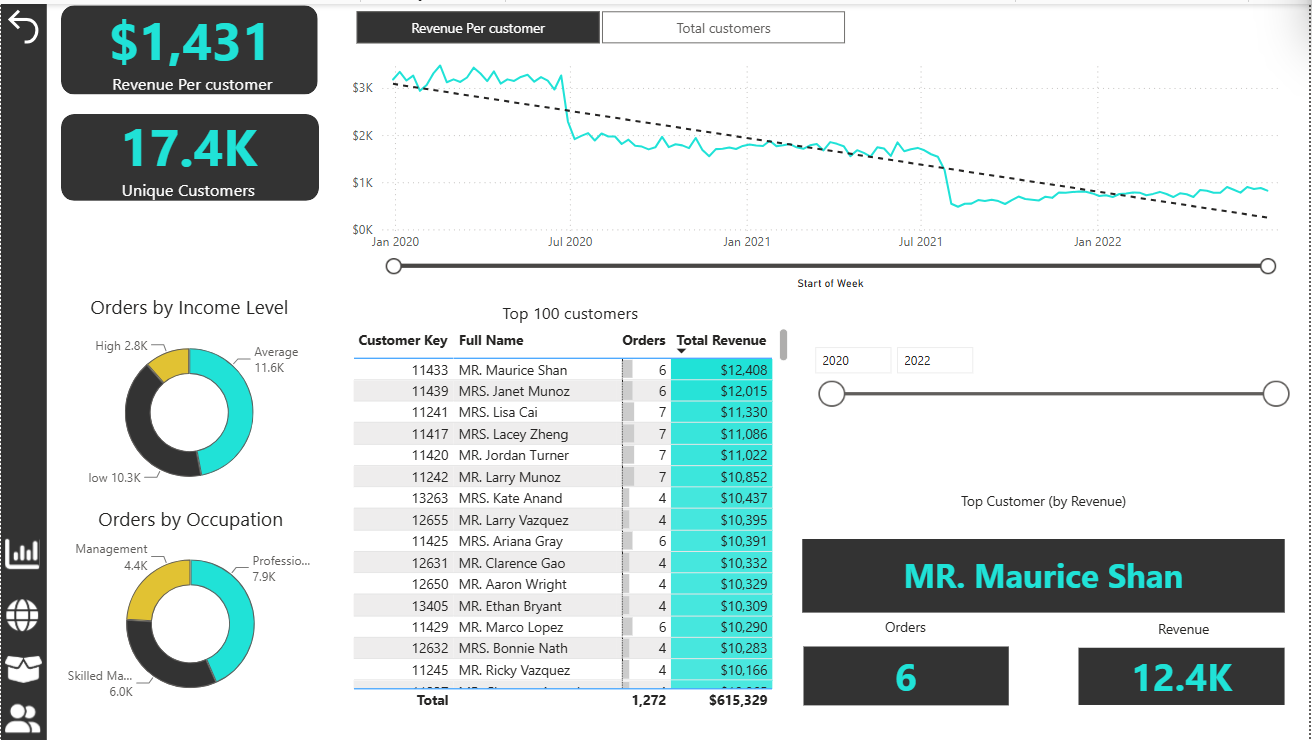

This screenshot's page, from the dashboard's own definition file:
{"tool":"powerbi","page":{"name":"Customer Detail","canvas":[1280,720],"ordinal":3},"visuals":[{"type":"shape","box":[0,0,45,720],"z":0},{"type":"group","id":"g1","title":"KPIs","box":[58.8,0,252.6,215],"z":1000},{"type":"actionButton","box":[0,517,45.2,41.6],"z":1000,"group":"g2"},{"type":"lineChart","title":"Weekly Customers","fields":{"Category":["Calendar Lookup.DATE Hierarchy.Start of Year","Calendar Lookup.DATE Hierarchy.Start of Month","Calendar Lookup.DATE Hierarchy.Start of Week","Calendar Lookup.DATE Hierarchy.Date"],"Y":["Measure Table.Average Revenue Per customer"]},"box":[338.7,45.2,929.4,238.5],"z":2000},{"type":"shape","box":[58.9,107.5,252.5,85],"z":2000,"group":"g1"},{"type":"actionButton","box":[0,627.1,44,46.5],"z":2000,"group":"g2"},{"type":"shape","box":[58.8,1.2,251.2,87.5],"z":3000,"group":"g1"},{"type":"donutChart","title":"Orders by Income Level","fields":{"Category":["Customer Lookup.Income Level"],"Y":["Measure Table.Total orders"]},"box":[58.7,283.2,251.2,207.5],"z":3000},{"type":"actionButton","box":[0,677.2,44,42.8],"z":3000,"group":"g2"},{"type":"card","fields":{"Values":["Measure Table.Average Revenue Per customer"]},"box":[73.5,0,223.8,88.8],"z":4000,"group":"g1"},{"type":"donutChart","title":"Orders by Occupation","fields":{"Category":["Customer Lookup.Occupation"],"Y":["Measure Table.Total orders"]},"box":[59.9,490.7,251.2,207.5],"z":4000},{"type":"actionButton","box":[1.2,578.2,45.2,39.1],"z":4000,"group":"g2"},{"type":"card","fields":{"Values":["Measure Table.Total customers"]},"box":[71.6,82.5,225,132.5],"z":5000,"group":"g1"},{"type":"tableEx","title":"Top 100 customers","fields":{"Values":["Customer Lookup.CustomerKey","Customer Lookup.Full Name","Measure Table.Total orders","Measure Table.Total Revenue"]},"box":[338.7,291,436.6,404.8],"z":5000},{"type":"card","fields":{"Values":["Customer Lookup.Full Name(customer Detail)"]},"box":[783.8,523.6,472,72.1],"z":6000},{"type":"card","fields":{"Values":["Measure Table.Total Revenue (customer Detail)"]},"box":[1054.1,630,201.8,56.3],"z":7000},{"type":"card","fields":{"Values":["Measure Table.Total orders (Customers Detail)"]},"box":[785.1,628.8,200.5,57.5],"z":8000},{"type":"textbox","box":[783.8,472.2,472,51.4],"z":9000},{"type":"textbox","box":[783.8,595.7,201.8,33],"z":10000},{"type":"textbox","box":[1054.1,596.3,201.8,34.2],"z":11000},{"type":"slicer","fields":{"Values":["Calendar Lookup.Date.Variation.Date Hierarchy.Year"]},"box":[783.8,325.3,484.2,77],"z":12000},{"type":"actionButton","box":[0,0,45.2,44],"z":13000},{"type":"group","id":"g2","title":"Navigation buttons","box":[0,517,46.5,203],"z":14000},{"type":"slicer","fields":{"Values":["Customer Metric Selection.Customer Metric Selection"]},"box":[321.6,0,528.3,45.2],"z":16000}]}

Visuals, with their boxes on the page's 1280x720 design canvas (x1, y1, x2, y2). These are canvas units, not pixel positions in the 1312x740 screenshot, which may show the page scaled, cropped or inside an application window:
shape: [0, 0, 45, 720]
"KPIs" group: [59, 0, 311, 215]
actionButton: [0, 517, 45, 559]
"Weekly Customers" lineChart: [339, 45, 1268, 284]
shape: [59, 108, 311, 192]
actionButton: [0, 627, 44, 674]
shape: [59, 1, 310, 89]
"Orders by Income Level" donutChart: [59, 283, 310, 491]
actionButton: [0, 677, 44, 720]
card - Measure Table.Average Revenue Per customer: [74, 0, 297, 89]
"Orders by Occupation" donutChart: [60, 491, 311, 698]
actionButton: [1, 578, 46, 617]
card - Measure Table.Total customers: [72, 82, 297, 215]
"Top 100 customers" tableEx: [339, 291, 775, 696]
card - Customer Lookup.Full Name(customer Detail): [784, 524, 1256, 596]
card - Measure Table.Total Revenue (customer Detail): [1054, 630, 1256, 686]
card - Measure Table.Total orders (Customers Detail): [785, 629, 986, 686]
textbox: [784, 472, 1256, 524]
textbox: [784, 596, 986, 629]
textbox: [1054, 596, 1256, 630]
slicer - Calendar Lookup.Date.Variation.Date Hierarchy.Year: [784, 325, 1268, 402]
actionButton: [0, 0, 45, 44]
"Navigation buttons" group: [0, 517, 46, 720]
slicer - Customer Metric Selection.Customer Metric Selection: [322, 0, 850, 45]
